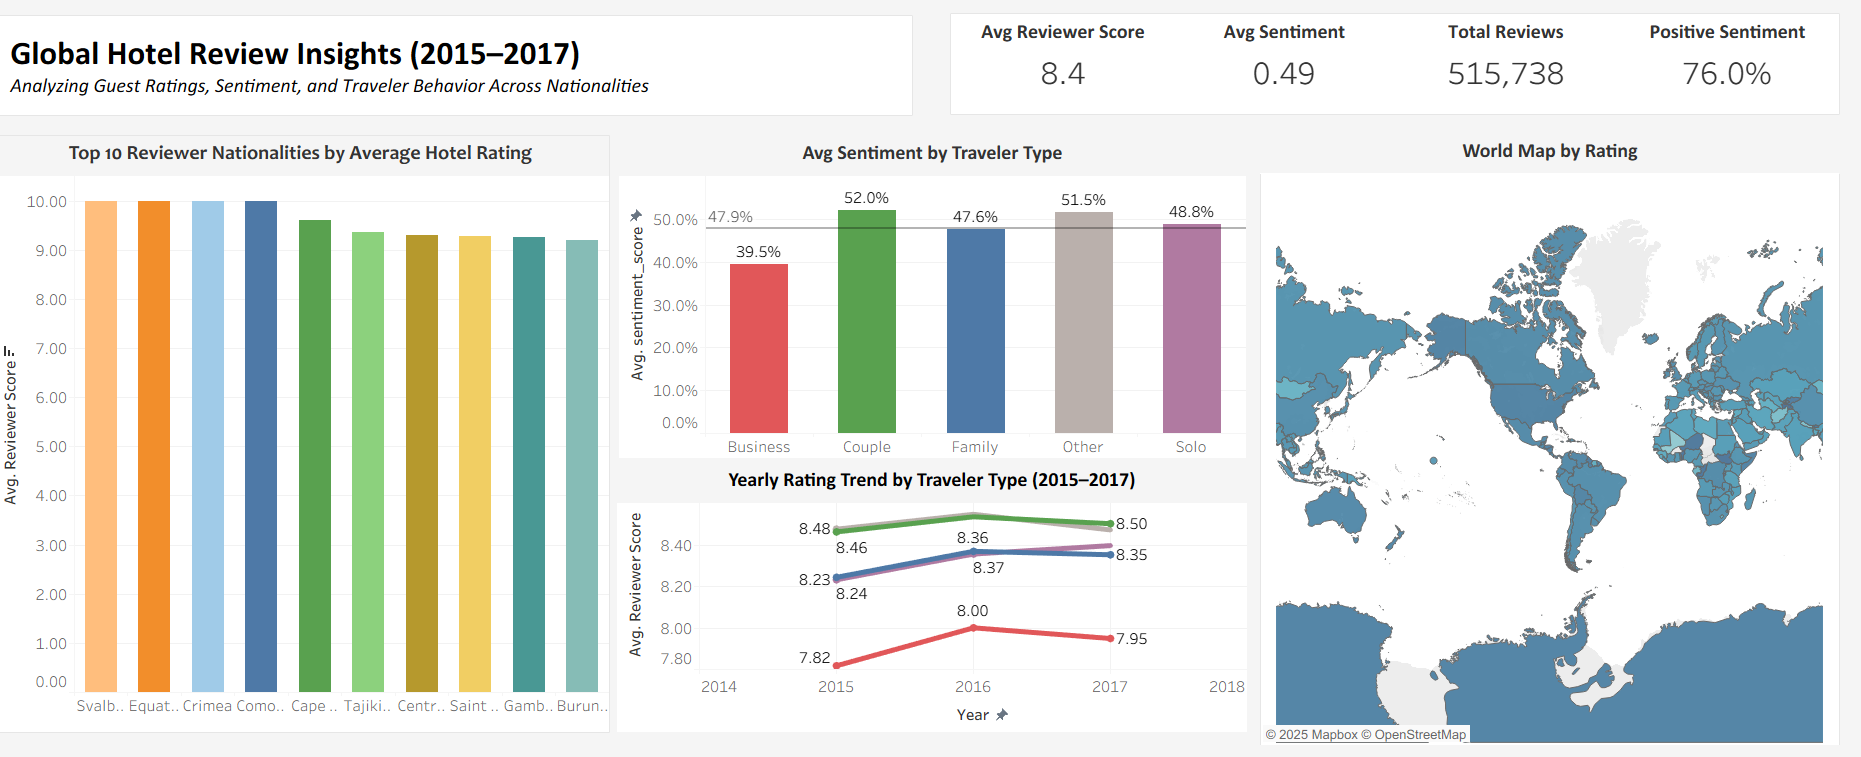

Layout of this report page (visuals, bound fields, positions):
{"tool":"tableau","page":{"name":"Dashboard 1","canvas":[1000,1000],"units":"permille","ordinal":0},"visuals":[{"type":"worksheet","title":"KPI","mark":"Automatic","box":[505.1,18.7,471.3,127.3]},{"type":"text","box":[0,21.2,485.8,126.1]},{"type":"worksheet","title":"World Map by Rating","mark":"Automatic","box":[669.3,169.8,307.2,762.8]},{"type":"worksheet","title":"Avg Sentiment by Traveler Type","mark":"Automatic","rows":["sentiment_score"],"cols":["stay_purpose"],"box":[330.1,172.3,331.9,402]},{"type":"worksheet","title":"Yearly Rating Trend by Traveler Type","mark":"Automatic","rows":["Reviewer_Score"],"cols":["year"],"box":[328.9,580.5,333.7,335.8]}]}

Visuals, with their boxes on the dashboard's canvas, which has no fixed pixel size, in thousandths of its width and height (x1, y1, x2, y2). These are canvas units, not pixel positions in the 1861x757 screenshot, which may show the page scaled, cropped or inside an application window:
"KPI" worksheet: [505, 19, 976, 146]
text: [0, 21, 486, 147]
"World Map by Rating" worksheet: [669, 170, 976, 933]
"Avg Sentiment by Traveler Type" worksheet: [330, 172, 662, 574]
"Yearly Rating Trend by Traveler Type" worksheet: [329, 580, 663, 916]
